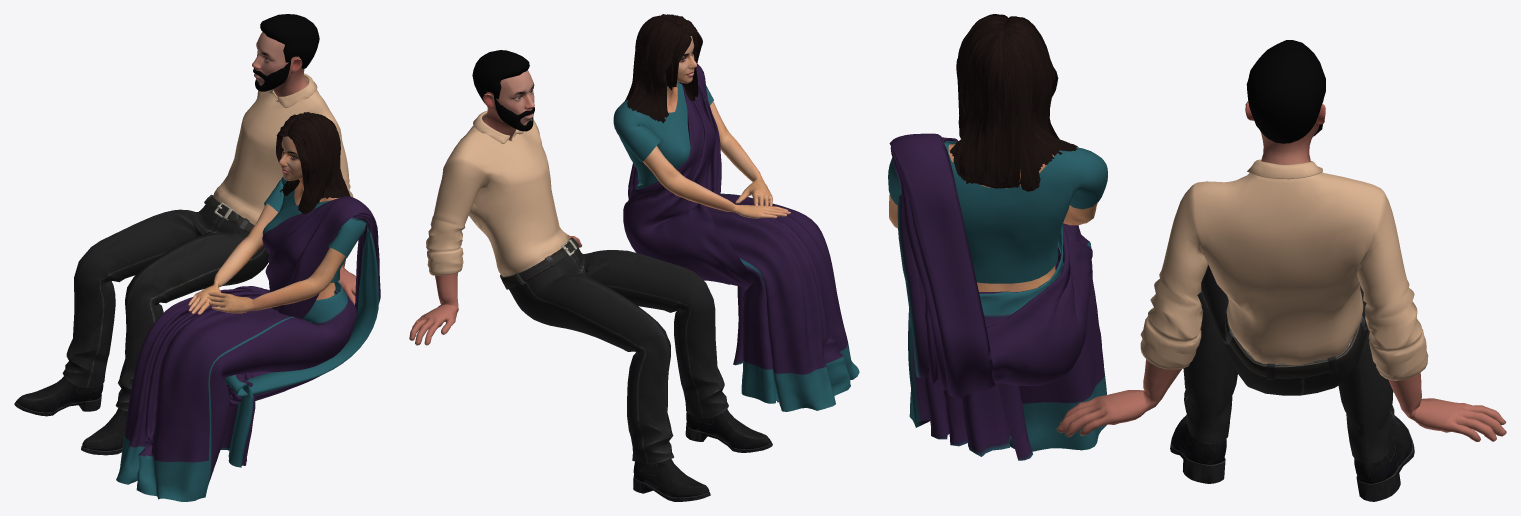
File: CoupleSitting.gltf
3 renders of one model, left to right at view 1: azimuth 30°, elevation 25°; view 2: azimuth 150°, elevation 25°; view 3: azimuth 270°, elevation 25°, orthographic. The views are drawn at different scales.
Visible parts, largest first — view 1: Object_15.001, Object_21, Object_25, Object_7.001, Object_16, Object_23, Object_15, Object_11, Object_9.006, Object_17, Object_19; view 2: Object_15.001, Object_21, Object_25, Object_16, Object_23, Object_7.001, Object_11, Object_19, Object_15, Object_9.006, Object_17; view 3: Object_15.001, Object_25, Object_16, Object_21, Object_19, Object_15, Object_23, Object_7.001, Object_11.
Part boxes in pixels (x1,y1,x2,y2): Object_15.001: (116, 177, 380, 501); Object_21: (62, 194, 269, 411); Object_25: (213, 73, 353, 224); Object_7.001: (188, 203, 345, 314); Object_16: (276, 112, 350, 214); Object_23: (14, 376, 127, 455); Object_15: (260, 14, 319, 68); Object_11: (252, 32, 308, 96); Object_9.006: (279, 136, 339, 205); Object_17: (253, 60, 290, 91); Object_19: (338, 260, 356, 304); Object_15.001: (613, 64, 859, 411); Object_21: (500, 237, 728, 464); Object_25: (426, 110, 568, 276); Object_16: (625, 14, 702, 123); Object_23: (633, 409, 772, 501); Object_7.001: (641, 101, 790, 218); Object_11: (482, 70, 534, 140); Object_19: (409, 234, 582, 345); Object_15: (472, 50, 529, 103); Object_9.006: (667, 36, 696, 112); Object_17: (494, 96, 534, 131); Object_15.001: (888, 133, 1107, 460); Object_25: (1140, 159, 1428, 380); Object_16: (950, 14, 1078, 191); Object_21: (1183, 265, 1394, 463); Object_19: (1056, 359, 1506, 441); Object_15: (1246, 40, 1325, 143); Object_23: (1170, 415, 1414, 501); Object_7.001: (889, 144, 1097, 291); Object_11: (1245, 101, 1325, 164).
Bounding box in the file's own units: 10.96 × 13.53 × 13.25.
15 materials, 14 textured.
